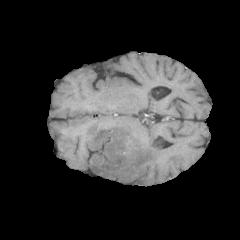glioma: (85, 122, 197, 176)
